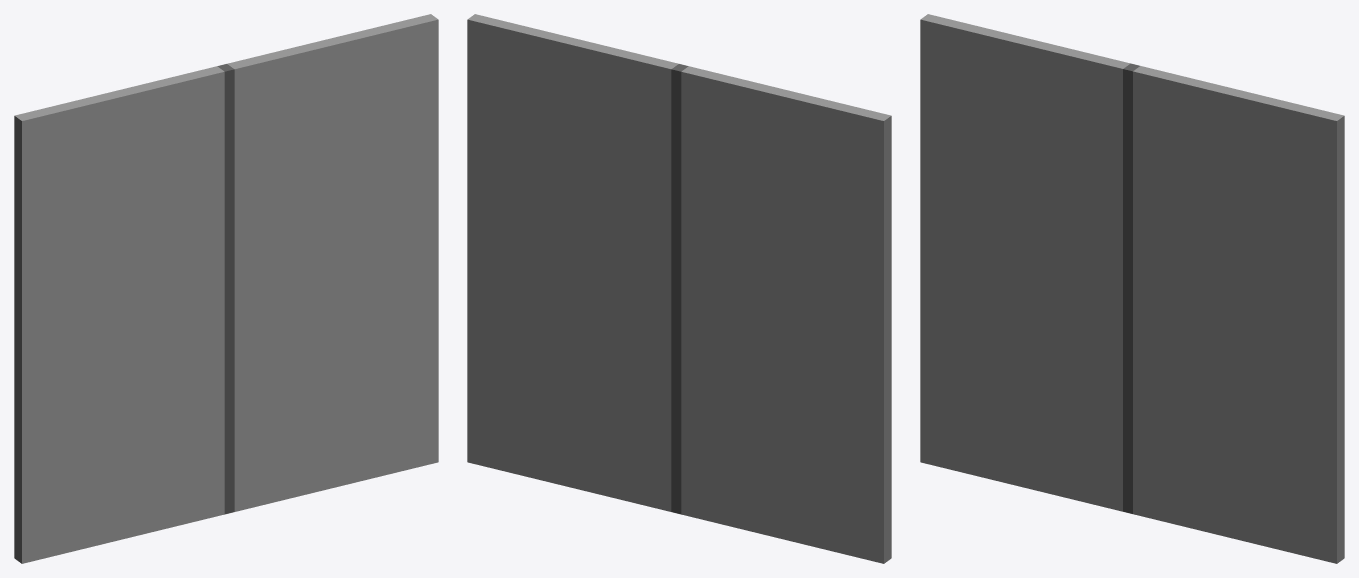
Rendered from SO_Wall_Elevator2.fbx.
The picture shows the model from 3 angles, left to right: view 1: azimuth 30°, elevation 25°; view 2: azimuth 150°, elevation 25°; view 3: azimuth 330°, elevation 25°; orthographic projection.
Visible parts, largest first — view 1: SO_Wall_Elevator_Door_01, SO_Wall_Elevator_Door_02; view 2: SO_Wall_Elevator_Door_01, SO_Wall_Elevator_Door_02; view 3: SO_Wall_Elevator_Door_02, SO_Wall_Elevator_Door_01.
Boxes of the visible parts, x1=… form: SO_Wall_Elevator_Door_01: x1=14, y1=65, x2=229, y2=563; SO_Wall_Elevator_Door_02: x1=222, y1=14, x2=438, y2=512; SO_Wall_Elevator_Door_01: x1=676, y1=65, x2=891, y2=563; SO_Wall_Elevator_Door_02: x1=467, y1=14, x2=683, y2=512; SO_Wall_Elevator_Door_02: x1=1128, y1=64, x2=1344, y2=563; SO_Wall_Elevator_Door_01: x1=920, y1=14, x2=1134, y2=512.
Size of the model in its own units: 3.8 by 3.86 by 0.12.
